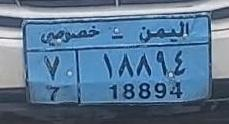city: (27, 52, 74, 103)
number: (77, 43, 209, 105)
text: (27, 17, 210, 51)
